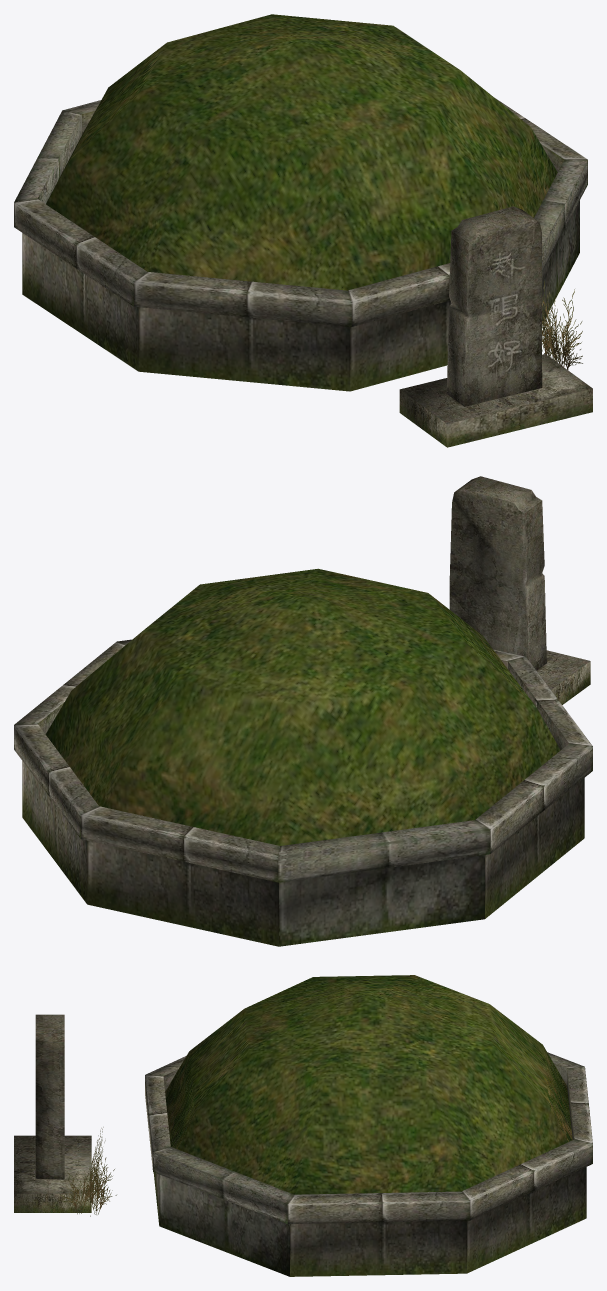
File: cj_grave_normal_01.glb
3 renders of one model, top to bottom at view 1: azimuth 30°, elevation 25°; view 2: azimuth 150°, elevation 25°; view 3: azimuth 270°, elevation 25°, orthographic. The views are drawn at different scales.
Parts seen in each view (by area): view 1: cj_grave_normal_02, cj_grave_normal_01, cj_grave_normal_03, cj_grave_normal_04; view 2: cj_grave_normal_02, cj_grave_normal_01, cj_grave_normal_03; view 3: cj_grave_normal_02, cj_grave_normal_01, cj_grave_normal_03, cj_grave_normal_04.
Boxes of the visible parts, x1=… form: cj_grave_normal_02: x1=46, y1=14, x2=557, y2=290; cj_grave_normal_01: x1=14, y1=98, x2=592, y2=447; cj_grave_normal_03: x1=14, y1=110, x2=587, y2=323; cj_grave_normal_04: x1=542, y1=280, x2=582, y2=369; cj_grave_normal_02: x1=45, y1=568, x2=560, y2=845; cj_grave_normal_01: x1=14, y1=476, x2=592, y2=946; cj_grave_normal_03: x1=117, y1=639, x2=490, y2=946; cj_grave_normal_02: x1=165, y1=975, x2=572, y2=1194; cj_grave_normal_01: x1=14, y1=1014, x2=592, y2=1276; cj_grave_normal_03: x1=153, y1=1052, x2=584, y2=1276; cj_grave_normal_04: x1=61, y1=1127, x2=116, y2=1216.
Size of the model in its own units: 6.07 by 2.82 by 7.84.
Materials: 4 (4 with a texture image).
